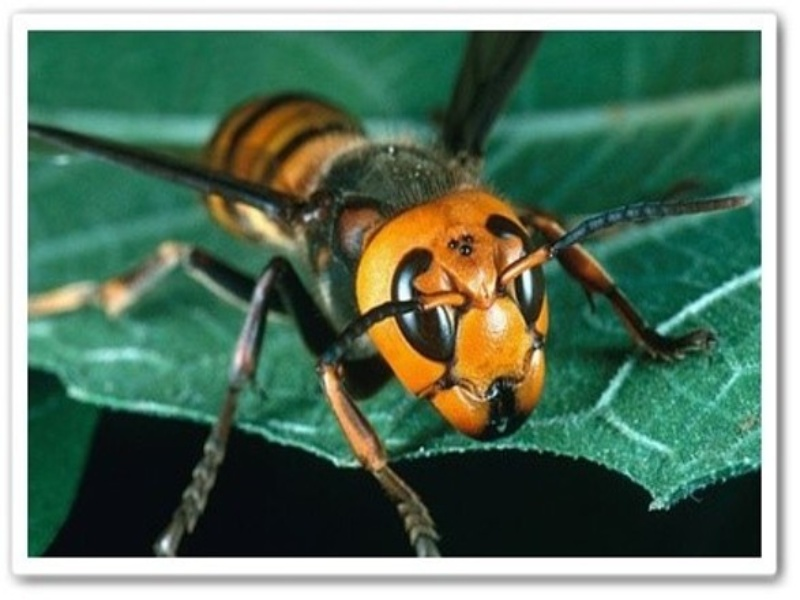asian_giant_hornet: (29, 30, 709, 538)
